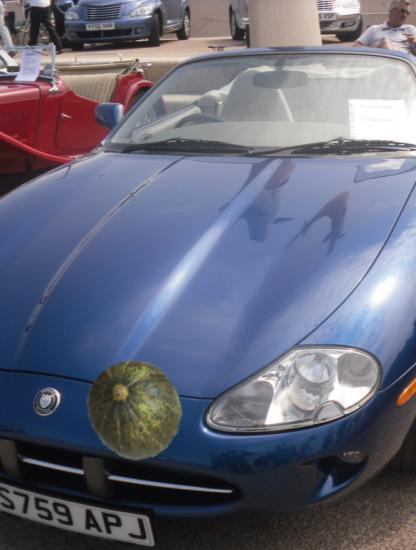Melon: (80, 355, 188, 463)
